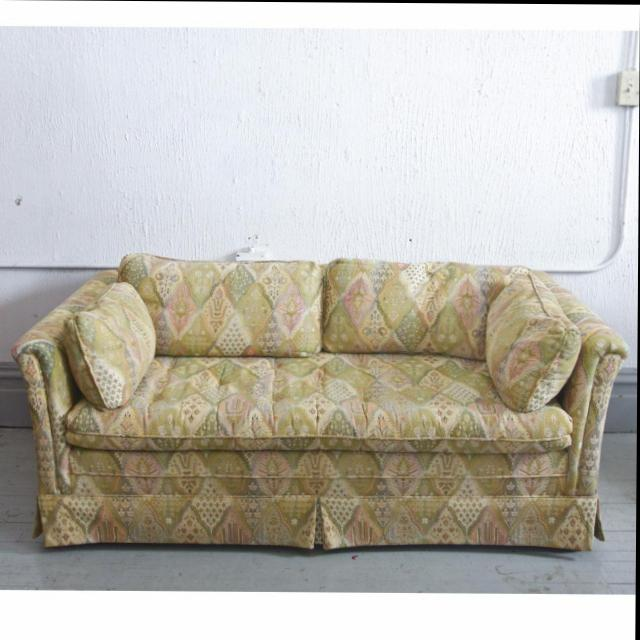Sofa: (13, 254, 628, 553)
